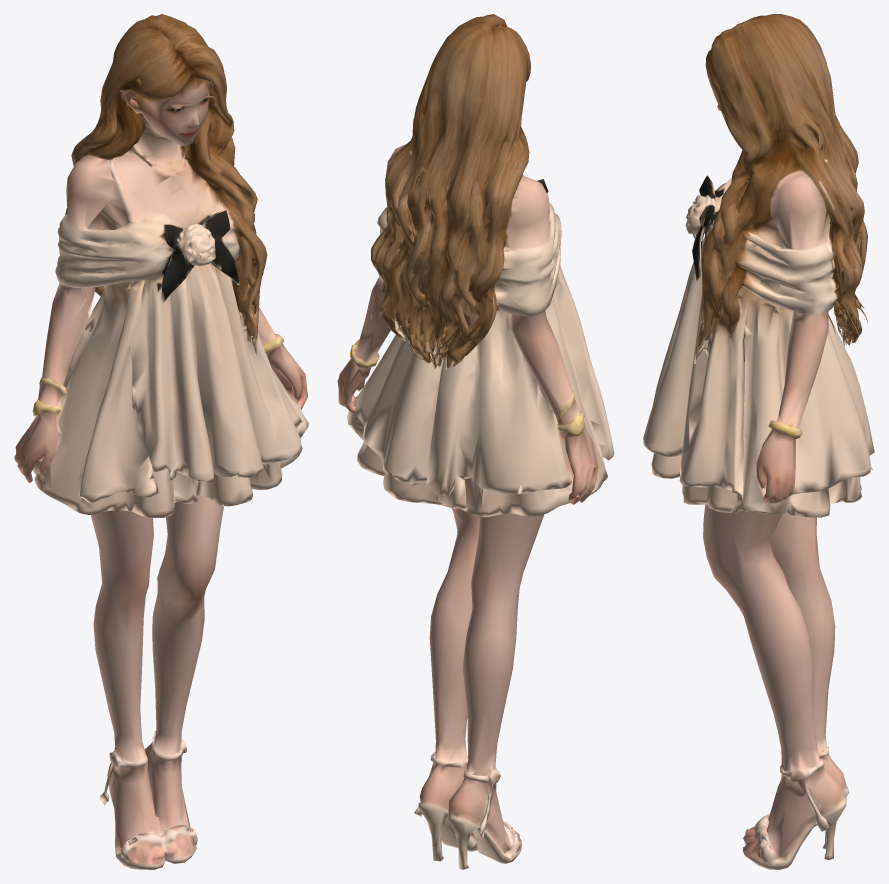
Rendered from PeachGala.glb.
3 renders of one model, left to right at view 1: azimuth 30°, elevation 25°; view 2: azimuth 150°, elevation 25°; view 3: azimuth 270°, elevation 25°, orthographic.
Parts seen in each view (by area): view 1: PeachGala; view 2: PeachGala; view 3: PeachGala.
Boxes of the visible parts, x1,y1,x2,y2 form: PeachGala: (14, 14, 308, 869); PeachGala: (337, 14, 614, 869); PeachGala: (643, 14, 874, 869).
Bounding box in the file's own units: 0.573 × 1.7 × 0.4235.
Materials: 1 (1 with a texture image).
